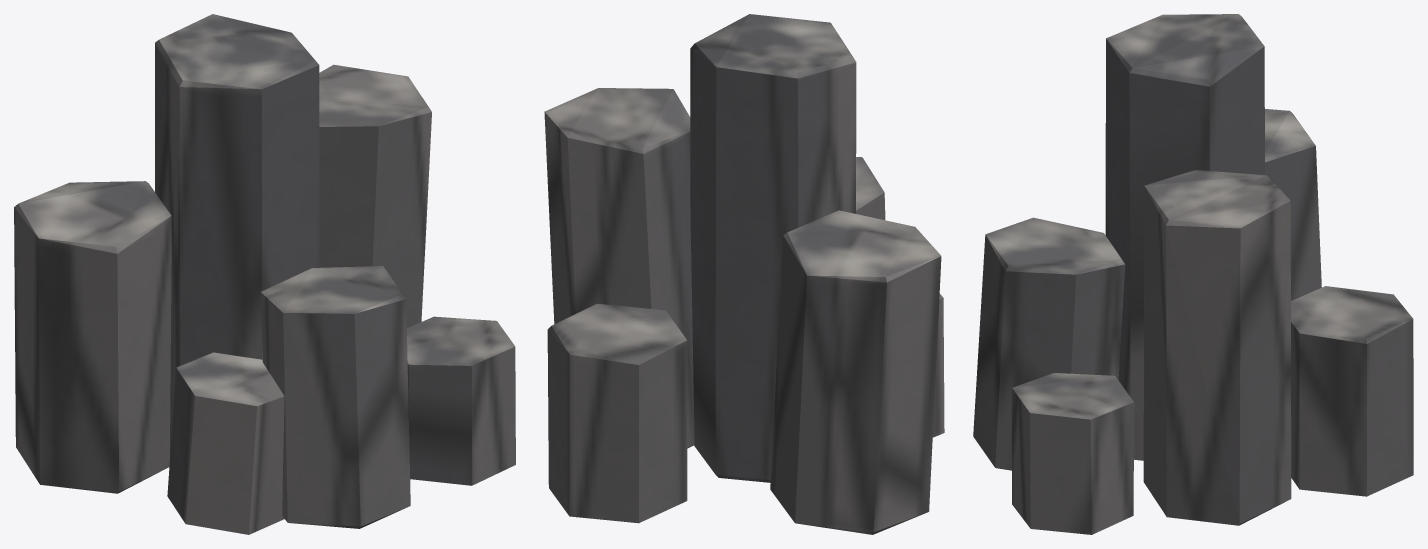
Rendered from basalt_rock_a_lod1.gltf.
3 renders of one model, left to right at view 1: azimuth 30°, elevation 25°; view 2: azimuth 150°, elevation 25°; view 3: azimuth 270°, elevation 25°, orthographic. The views are drawn at different scales.
Visible parts, largest first — view 1: basalt_rock_a_LOD1; view 2: basalt_rock_a_LOD1; view 3: basalt_rock_a_LOD1.
Boxes of the visible parts, bbox=[...] form: basalt_rock_a_LOD1: bbox=[14, 14, 515, 534]; basalt_rock_a_LOD1: bbox=[544, 14, 944, 534]; basalt_rock_a_LOD1: bbox=[973, 14, 1413, 534].
Bounding box in the file's own units: 1.37 × 1.38 × 1.37.
1 material, 1 textured.
